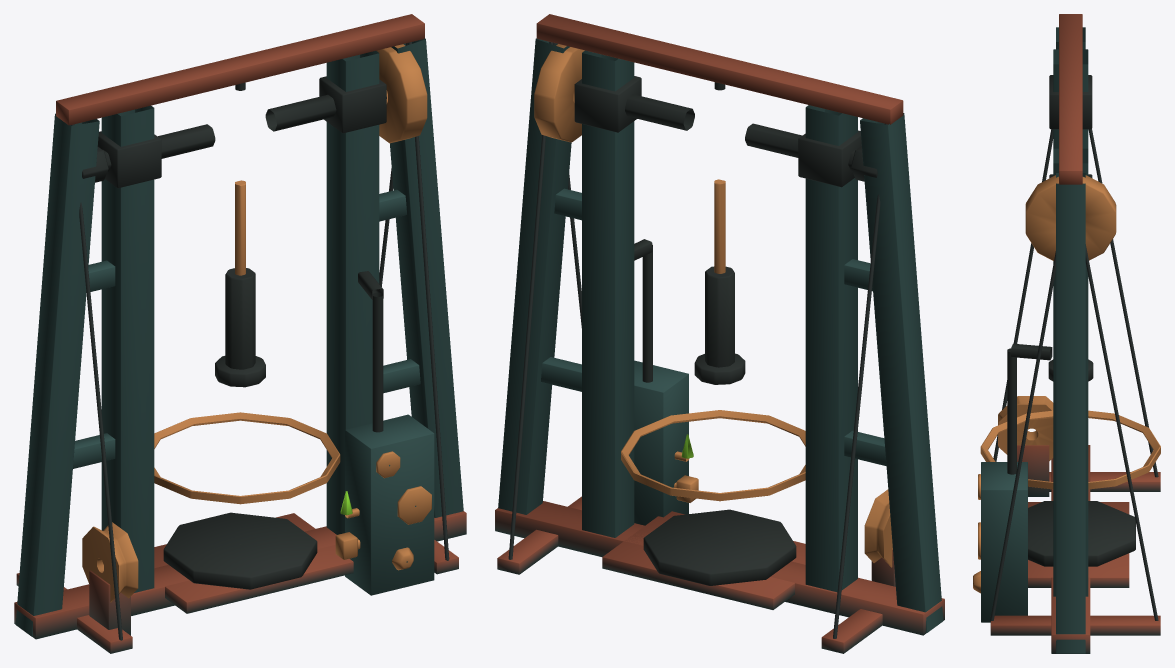
File: trebuchet_launcher_frame.glb
3 renders of one model, left to right at view 1: azimuth 30°, elevation 25°; view 2: azimuth 150°, elevation 25°; view 3: azimuth 270°, elevation 25°, orthographic. The views are drawn at different scales.
Parts seen in each view (by area): view 1: Girders, Fittings; view 2: Girders, Fittings; view 3: Girders, Fittings.
Boxes of the visible parts, x1=… form: Girders: x1=14, y1=14, x2=466, y2=653; Fittings: x1=71, y1=42, x2=449, y2=640; Girders: x1=495, y1=14, x2=944, y2=653; Fittings: x1=508, y1=42, x2=892, y2=638; Girders: x1=981, y1=14, x2=1160, y2=653; Fittings: x1=973, y1=75, x2=1160, y2=621.
Size of the model in its own units: 11.56 by 13.21 by 4.8.
